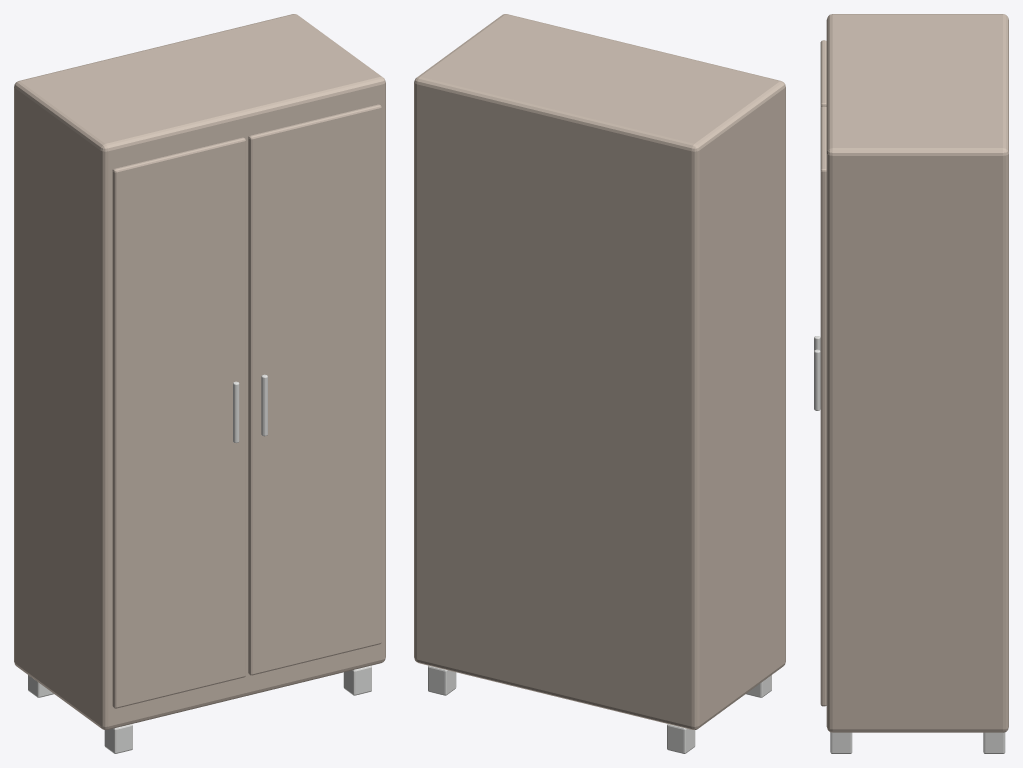
The model's file is office_storage___organization_asset_sheet_65.glb.
The picture shows the model from 3 angles, left to right: view 1: azimuth 30°, elevation 25°; view 2: azimuth 150°, elevation 25°; view 3: azimuth 270°, elevation 25°; orthographic projection.
Parts seen in each view (by area): view 1: Cube; view 2: Cube; view 3: Cube.
Part boxes in pixels (bbox=[...]): Cube: bbox=[14, 14, 385, 753]; Cube: bbox=[414, 14, 785, 753]; Cube: bbox=[814, 14, 1008, 753].
Size of the model in its own units: 0.9 by 1.85 by 0.535.
